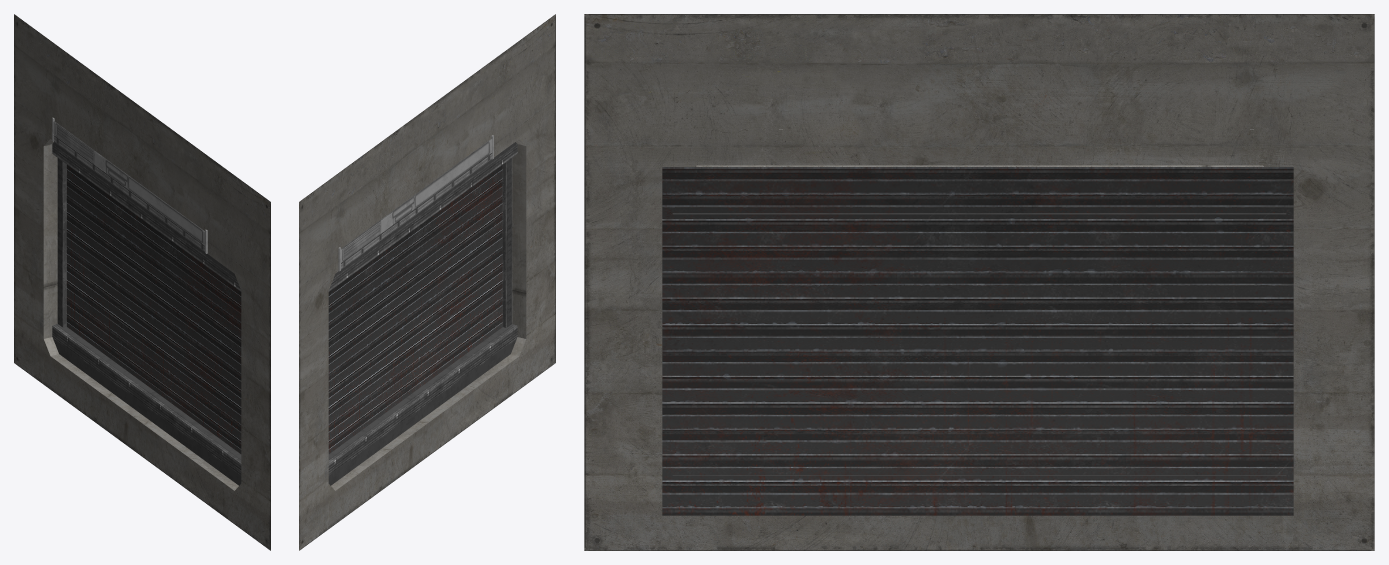
Rendered from CP_Showcase_A_4x3m_02.fbx.
3 views of the same model, side by side, from view 1: azimuth 30°, elevation 25°; view 2: azimuth 150°, elevation 25°; view 3: azimuth 270°, elevation 25° (orthographic). The views are drawn at different scales.
Parts seen in each view (by area): view 1: CP_Showcase_A_4x3m_02; view 2: CP_Showcase_A_4x3m_02; view 3: CP_Showcase_A_4x3m_02.
Part boxes in pixels (box(x1,y1,x2,y2)): CP_Showcase_A_4x3m_02: box(14, 14, 270, 550); CP_Showcase_A_4x3m_02: box(299, 14, 555, 550); CP_Showcase_A_4x3m_02: box(584, 14, 1374, 550).
Size of the model in its own units: 17.56 by 300 by 400.
